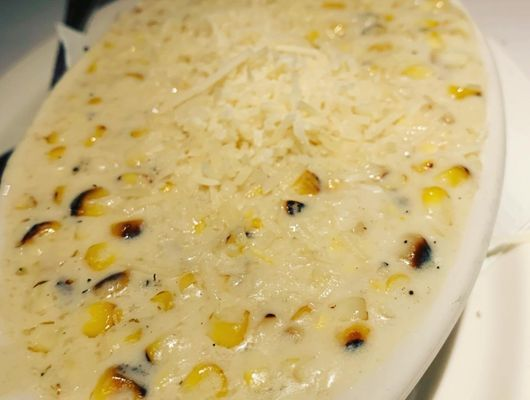sandwich: (6, 2, 516, 396)
